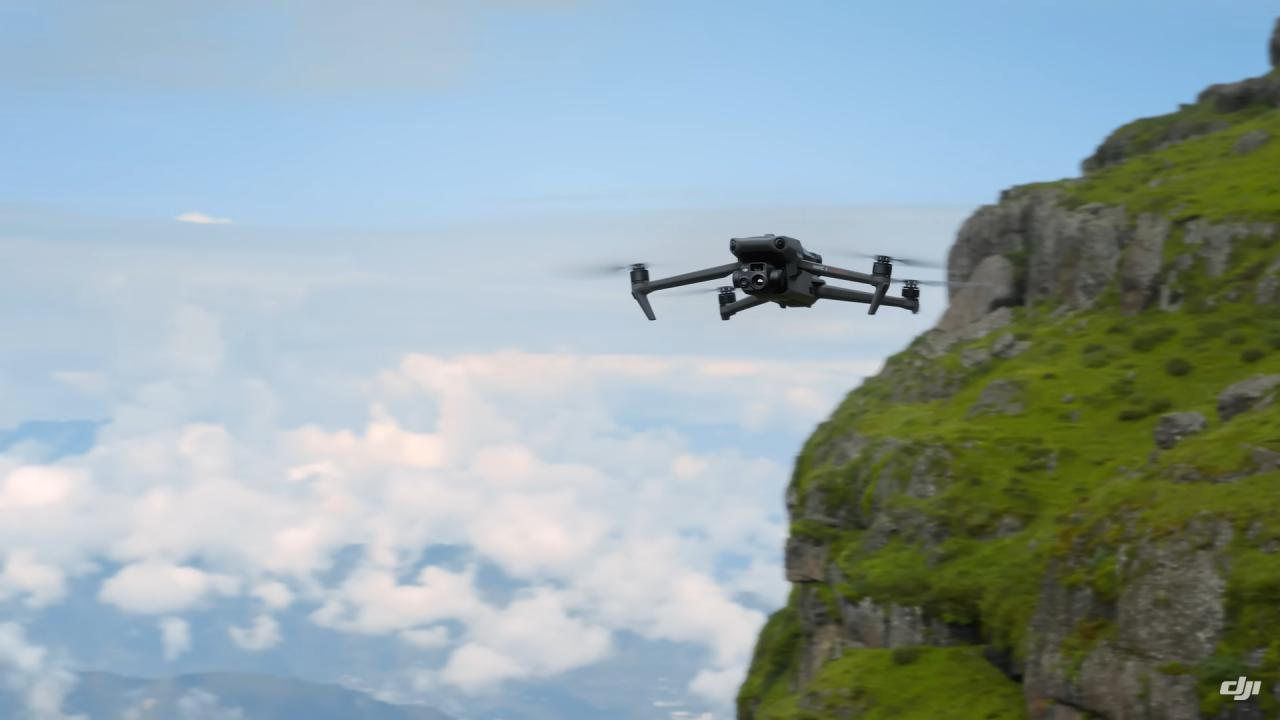Drone: (537, 210, 1016, 350)
